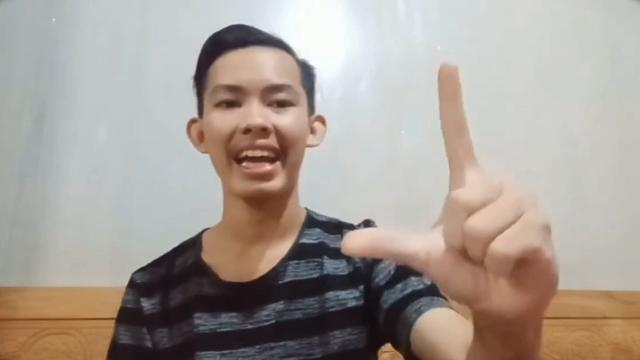L: (332, 60, 566, 312)
